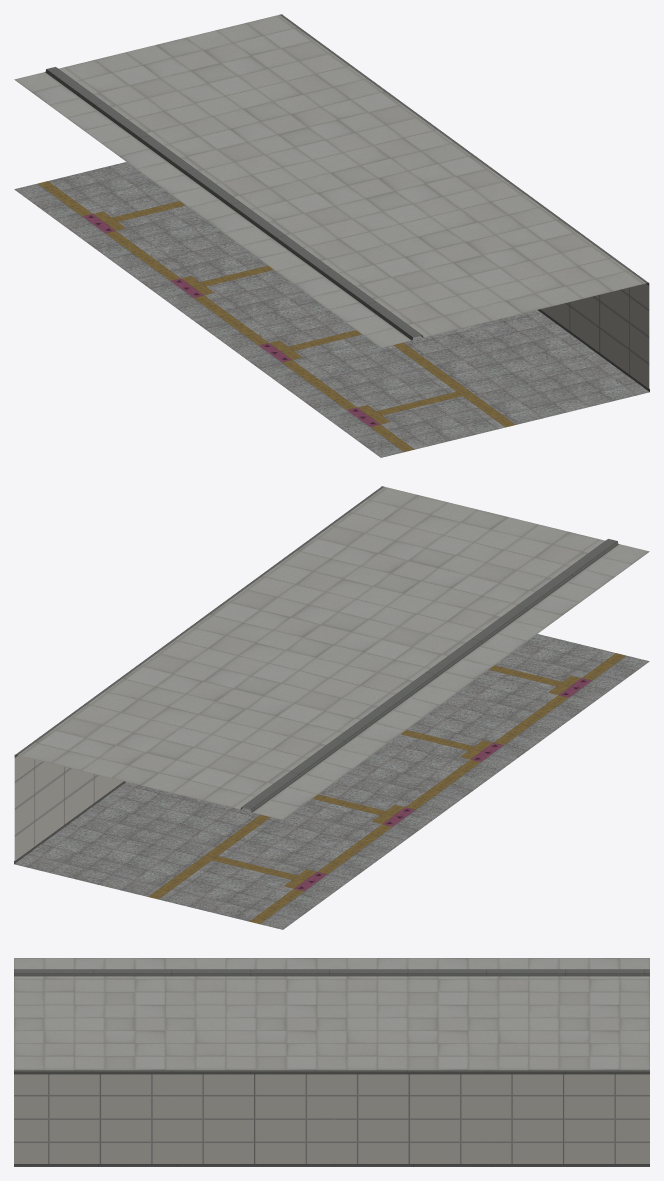
File: Floor_Station_B001.FBX
3 views of the same model, one above another, from view 1: azimuth 30°, elevation 25°; view 2: azimuth 150°, elevation 25°; view 3: azimuth 270°, elevation 25° (orthographic). The views are drawn at different scales.
Parts seen in each view (by area): view 1: Floor_Station_B001; view 2: Floor_Station_B001; view 3: Floor_Station_B001.
Part boxes in pixels (bbox=[...]): Floor_Station_B001: bbox=[14, 14, 649, 457]; Floor_Station_B001: bbox=[14, 486, 649, 929]; Floor_Station_B001: bbox=[14, 958, 649, 1166].
Bounding box in the file's own units: 872 × 2060 × 348.
